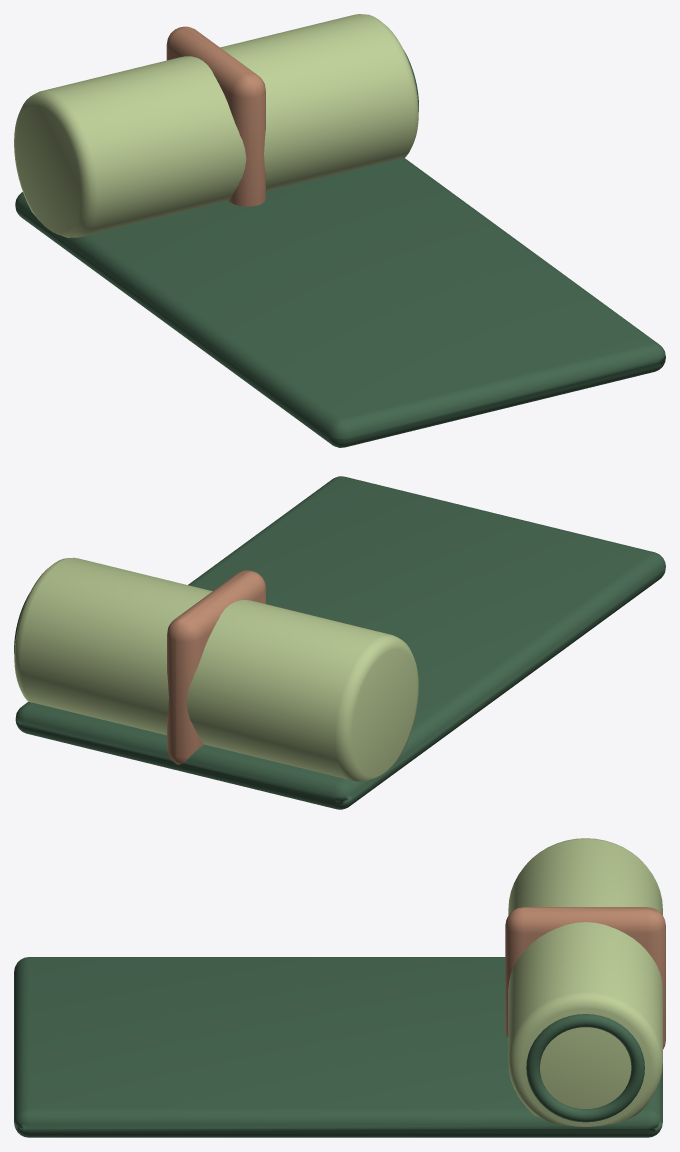
File: yoga-mat.glb
3 renders of one model, top to bottom at view 1: azimuth 30°, elevation 25°; view 2: azimuth 150°, elevation 25°; view 3: azimuth 270°, elevation 25°, orthographic.
Visible parts, largest first — view 1: Mat, Rolled edge, Strap; view 2: Mat, Rolled edge, Strap; view 3: Mat, Rolled edge, Strap, Roll detail.
Part boxes in pixels (left/top/right/bottom): Mat: left=15, top=158, right=665, bottom=447; Rolled edge: left=14, top=14, right=418, bottom=237; Strap: left=166, top=26, right=265, bottom=206; Mat: left=15, top=476, right=665, bottom=809; Rolled edge: left=14, top=557, right=418, bottom=781; Strap: left=167, top=570, right=265, bottom=764; Mat: left=14, top=957, right=662, bottom=1137; Rolled edge: left=508, top=838, right=662, bottom=1126; Strap: left=505, top=907, right=665, bottom=1049; Roll detail: left=526, top=1014, right=644, bottom=1122.
Size of the model in its own units: 1.28 by 0.545 by 2.11.
